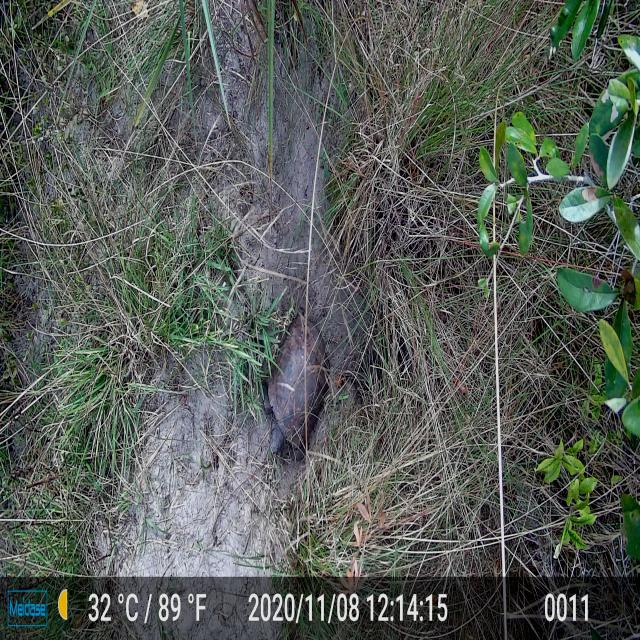tortoise: (266, 305, 332, 469)
